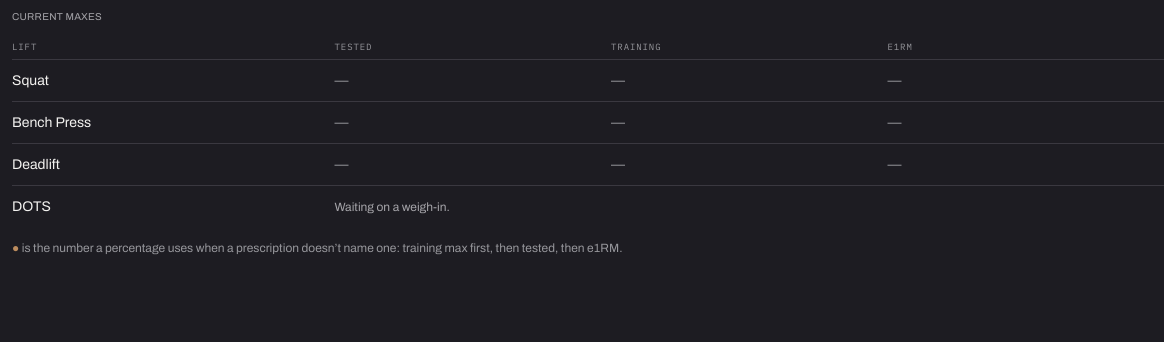
Test case: setting a max inline › refuses something that is not a weight before any round trip
Click the button named "Set tested for Bench Press" at (342, 122), box [330,108,352,137]
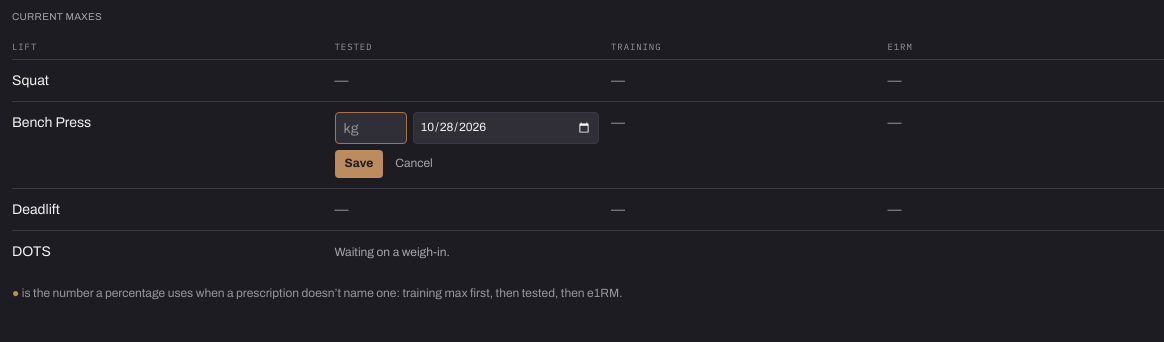
Type "75%" into the field named "tested for Bench Press, kg" at (370, 128), box [334,112,406,144]
Then press Enter
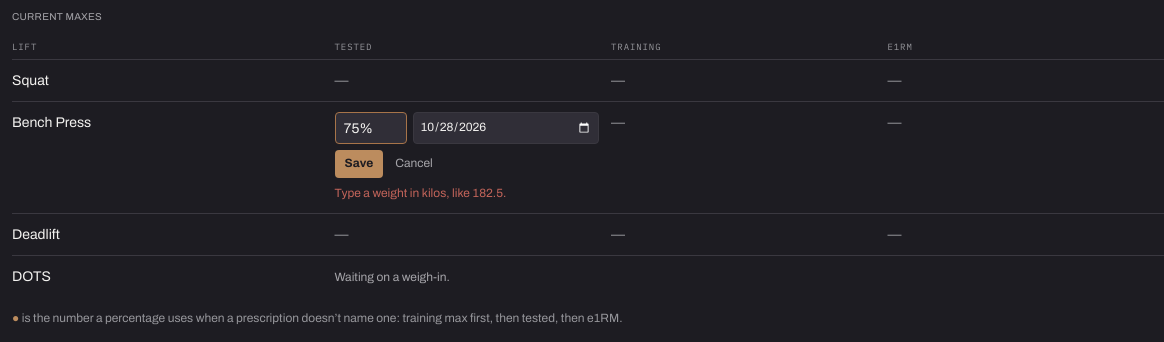
Expected: the message shows "Type a weight in kilos", [334,186,506,200]
